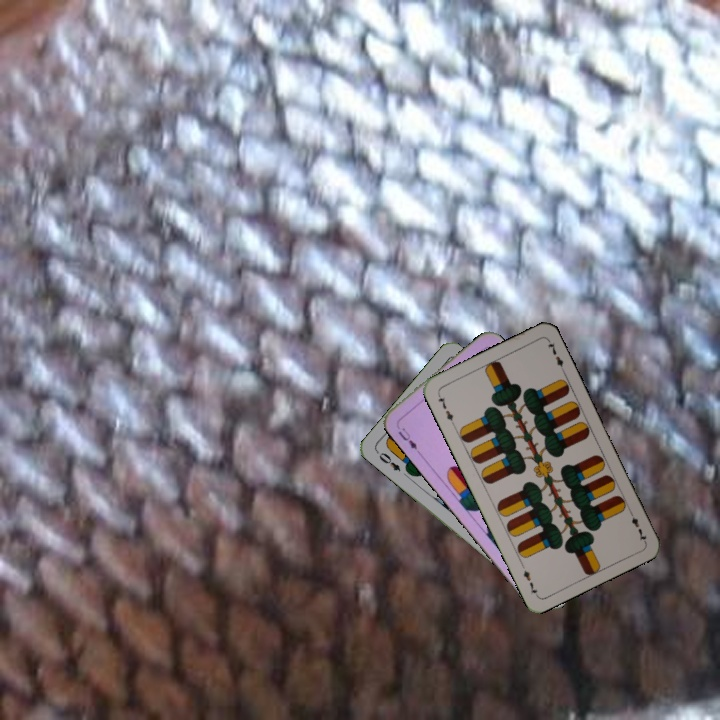E7: (433, 390, 457, 428), (625, 507, 649, 544)
EO: (375, 448, 403, 474)
EU: (394, 424, 420, 452)
